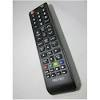remote control: (22, 8, 83, 94)
